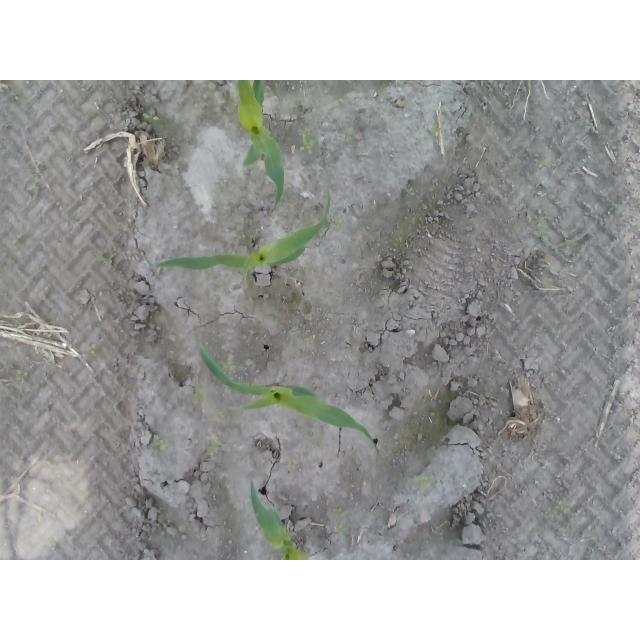Maize: (199, 341, 382, 460), (147, 187, 334, 289), (235, 81, 286, 215), (252, 480, 313, 560)
Weeds: (546, 500, 571, 523), (532, 217, 552, 244), (298, 128, 318, 154), (414, 476, 434, 493), (215, 360, 238, 372), (149, 435, 166, 451), (339, 128, 355, 144), (206, 440, 222, 456), (25, 180, 39, 197), (194, 389, 207, 407), (563, 237, 582, 249), (98, 253, 113, 267), (14, 370, 28, 383), (142, 113, 161, 122), (334, 524, 346, 538), (539, 159, 551, 172), (216, 407, 226, 421), (334, 509, 346, 520), (405, 186, 416, 198), (306, 337, 315, 348), (85, 344, 96, 353), (432, 123, 441, 133), (13, 234, 23, 243)
